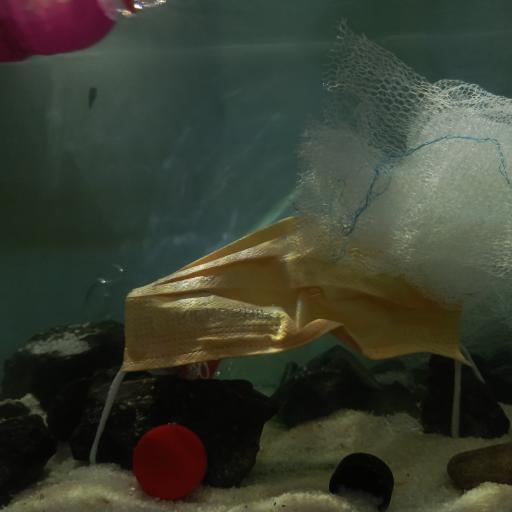bottle_cap: (130, 422, 208, 500), (328, 452, 394, 512)
mask: (100, 212, 478, 408)
net: (286, 17, 512, 367)
plastic_bottle: (78, 259, 300, 390), (0, 0, 166, 63)
